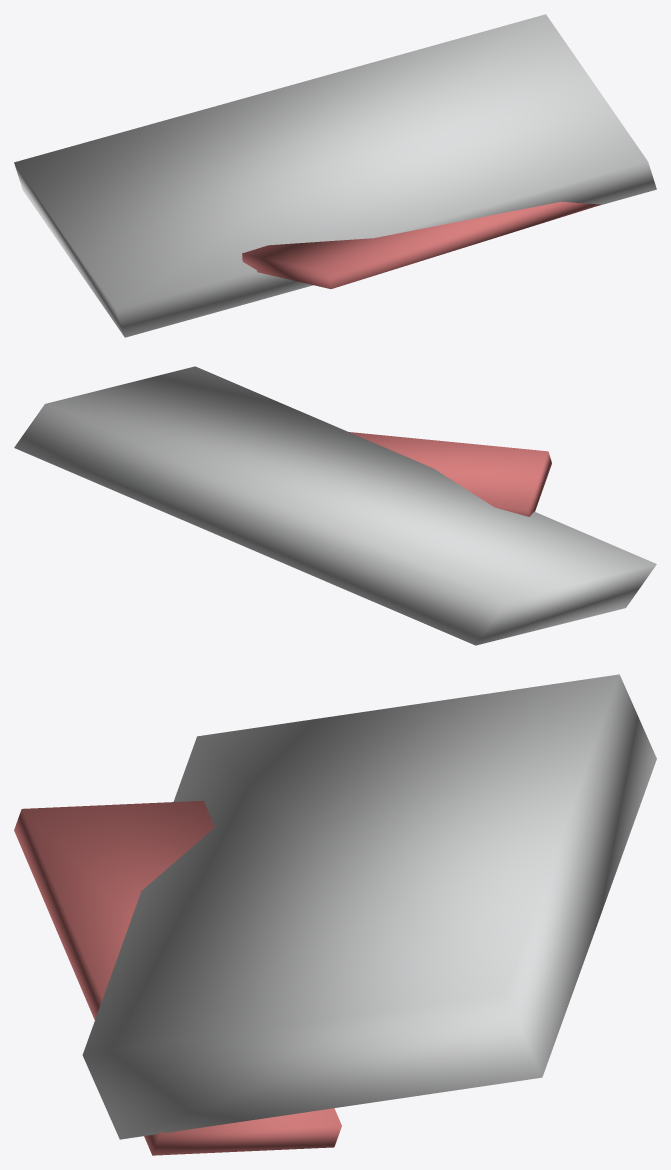
Rendered from food-cart-wreck.glb.
The picture shows the model from 3 angles, top to bottom: view 1: azimuth 30°, elevation 25°; view 2: azimuth 150°, elevation 25°; view 3: azimuth 270°, elevation 25°; orthographic projection. The views are drawn at different scales.
Visible parts, largest first — view 1: world; view 2: world; view 3: world.
Part boxes in pixels (x1,y1,x2,y2): world: (14,14,656,337); world: (14,366,656,645); world: (14,674,656,1155).
Bounding box in the file's own units: 5.2 × 1.3 × 3.2.
